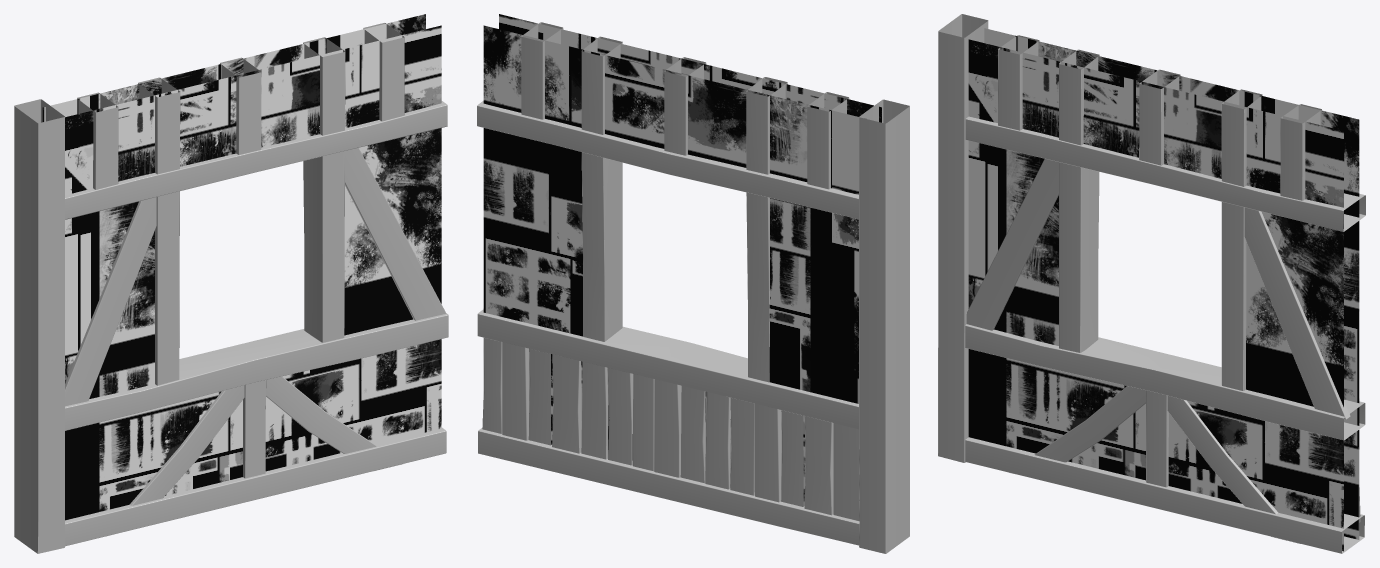
Rendered from SM_wall01_Wall_015.fbx.
3 views of the same model, side by side, from view 1: azimuth 30°, elevation 25°; view 2: azimuth 150°, elevation 25°; view 3: azimuth 330°, elevation 25° (orthographic).
Visible parts, largest first — view 1: SM_wall01_Wall_015_LOD0; view 2: SM_wall01_Wall_015_LOD0; view 3: SM_wall01_Wall_015_LOD0.
Boxes of the visible parts, x1,y1,x2,y2 form: SM_wall01_Wall_015_LOD0: (14,14,448,553); SM_wall01_Wall_015_LOD0: (477,14,909,553); SM_wall01_Wall_015_LOD0: (938,14,1365,553).
Bounding box in the file's own units: 303 × 31.03 × 304.
